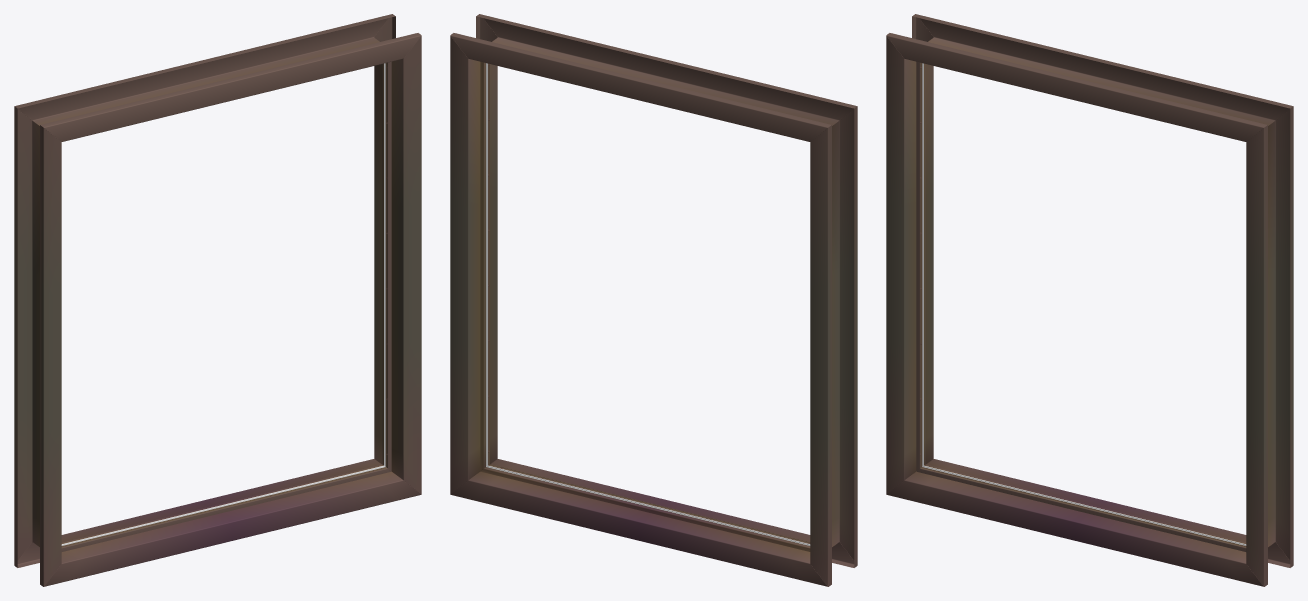
Rendered from Kit_WindowFrame_Steel.fbx.
The picture shows the model from 3 angles, left to right: view 1: azimuth 30°, elevation 25°; view 2: azimuth 150°, elevation 25°; view 3: azimuth 330°, elevation 25°; orthographic projection.
Visible parts, largest first — view 1: Kit_WindowFrame_Steel_LOD0; view 2: Kit_WindowFrame_Steel_LOD0; view 3: Kit_WindowFrame_Steel_LOD0.
Boxes of the visible parts, <box> form: Kit_WindowFrame_Steel_LOD0: <box>14,14,421,586</box>; Kit_WindowFrame_Steel_LOD0: <box>450,14,857,586</box>; Kit_WindowFrame_Steel_LOD0: <box>886,14,1293,586</box>.
Size of what is drawn, in the model's own units: 1.55 by 1.8 by 0.21.
